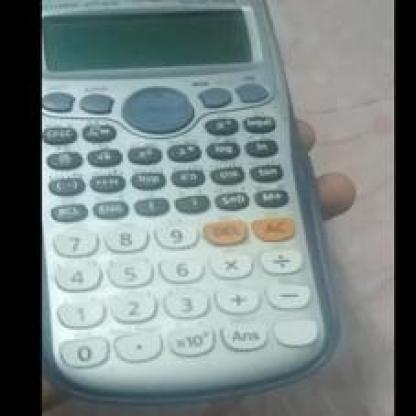calculator: (47, 0, 335, 399)
